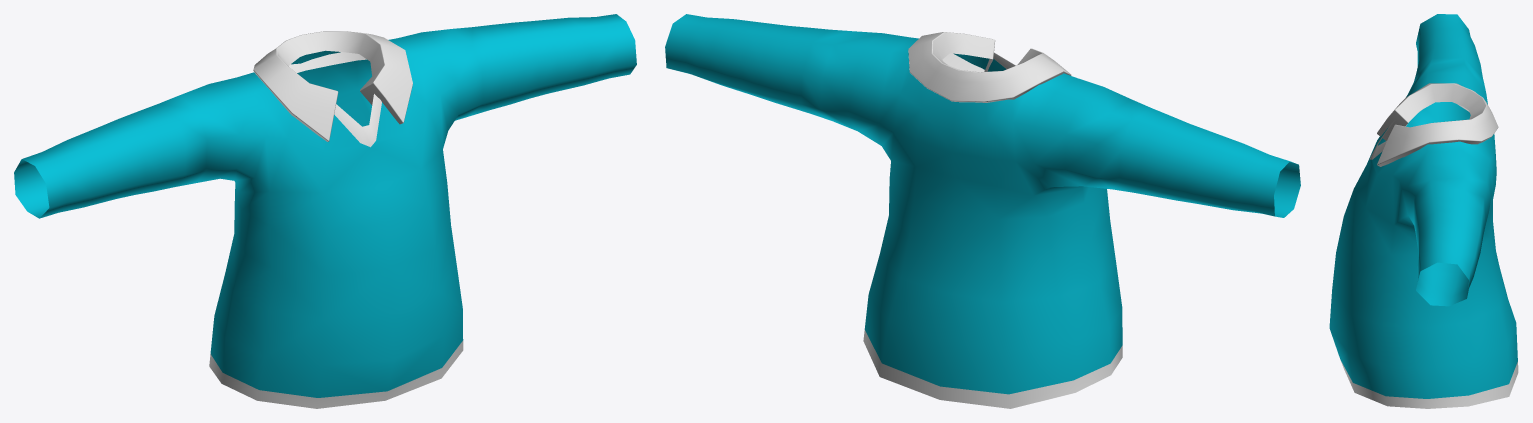
File: Outerwear_Light_Blue_003.glb
The picture shows the model from 3 angles, left to right: view 1: azimuth 30°, elevation 25°; view 2: azimuth 150°, elevation 25°; view 3: azimuth 270°, elevation 25°; orthographic projection. The views are drawn at different scales.
Visible parts, largest first — view 1: Outerwear_Light_Blue_003; view 2: Outerwear_Light_Blue_003; view 3: Outerwear_Light_Blue_003.
Boxes of the visible parts, x1,y1,x2,y2 form: Outerwear_Light_Blue_003: [14, 14, 636, 408]; Outerwear_Light_Blue_003: [665, 14, 1300, 408]; Outerwear_Light_Blue_003: [1329, 14, 1518, 408].
Size of the model in its own units: 1.3 by 0.6517 by 0.4131.
1 material, 1 textured.
